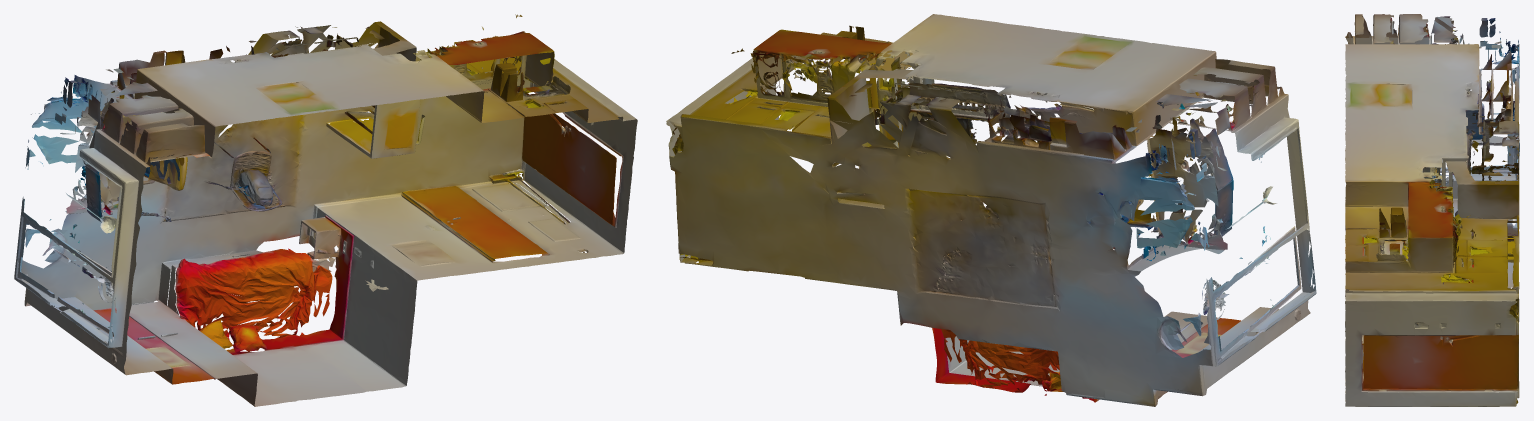
Rendered from reference_scene057.glb.
3 views of the same model, side by side, from view 1: azimuth 30°, elevation 25°; view 2: azimuth 150°, elevation 25°; view 3: azimuth 270°, elevation 25° (orthographic). The views are drawn at different scales.
Bounding box in the file's own units: 7.03 × 4 × 2.39.
